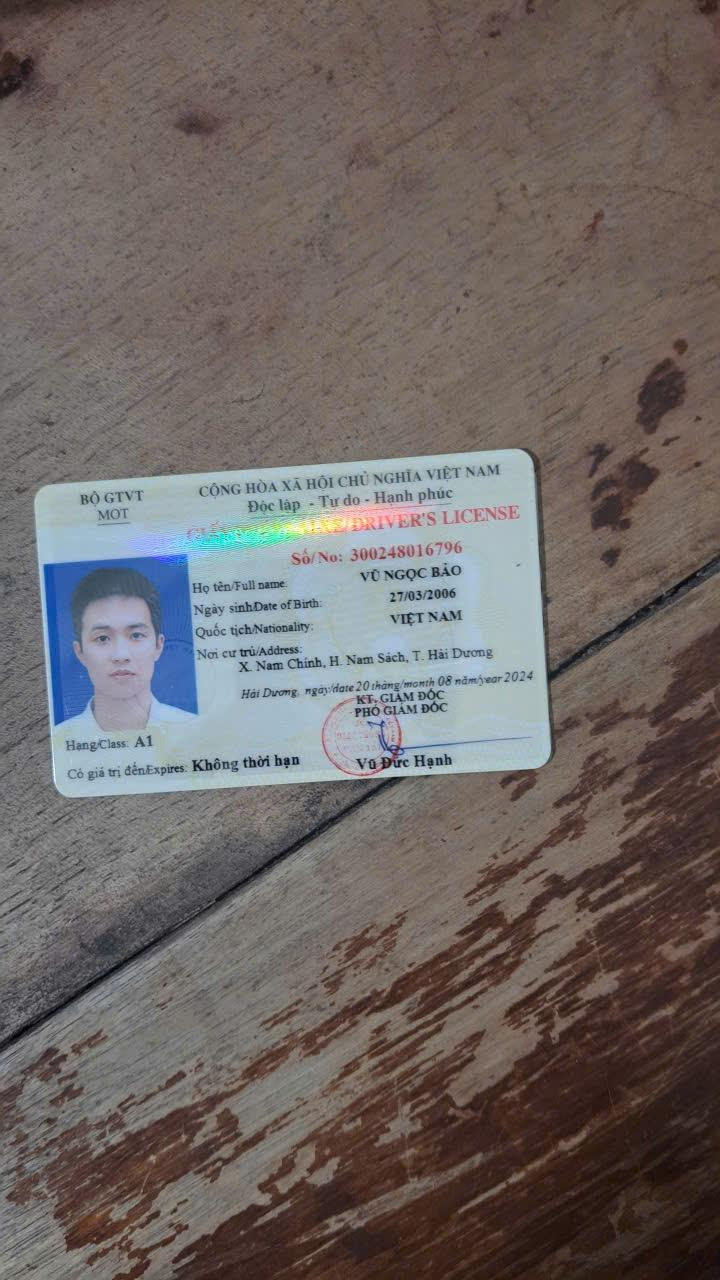gplx: (26, 445, 555, 807)
